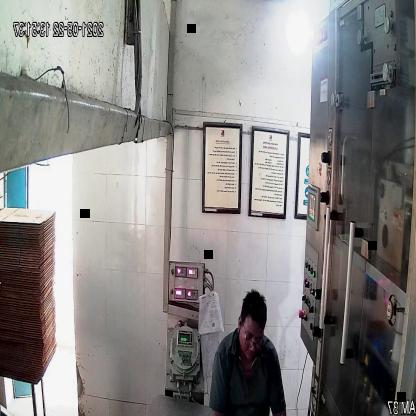goggles: (239, 328, 266, 352)
